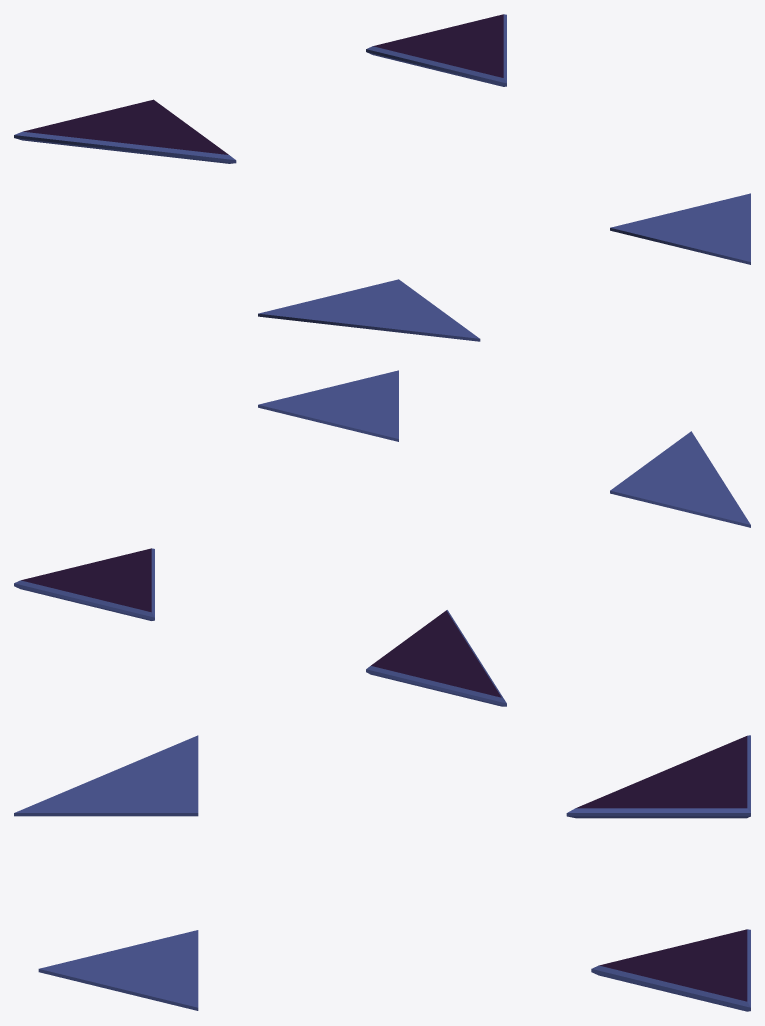
The model's file is OtherPrimitives.FBX.
3 renders of one model, top to bottom at view 1: azimuth 30°, elevation 25°; view 2: azimuth 150°, elevation 25°; view 3: azimuth 270°, elevation 25°, orthographic. The views are drawn at different scales.
Visible parts, largest first — view 1: RightAngle Tri, Cylinder009, Equilateral Tri, Cylinder010; view 2: RightAngle Tri, Cylinder009, Equilateral Tri, Cylinder010; view 3: RightAngle Tri, Cylinder009, Equilateral Tri, Cylinder010.
Part boxes in pixels (<box>): RightAngle Tri: <box>14,99,236,163</box>; Cylinder009: <box>258,279,480,341</box>; Equilateral Tri: <box>366,14,506,86</box>; Cylinder010: <box>610,193,750,264</box>; RightAngle Tri: <box>366,610,506,706</box>; Cylinder009: <box>610,431,750,527</box>; Equilateral Tri: <box>14,548,154,620</box>; Cylinder010: <box>258,370,398,441</box>; RightAngle Tri: <box>566,735,750,818</box>; Cylinder009: <box>14,735,198,816</box>; Equilateral Tri: <box>591,929,750,1011</box>; Cylinder010: <box>38,930,198,1010</box>.
Size of the model in its own units: 3.5 by 0.06 by 4.
